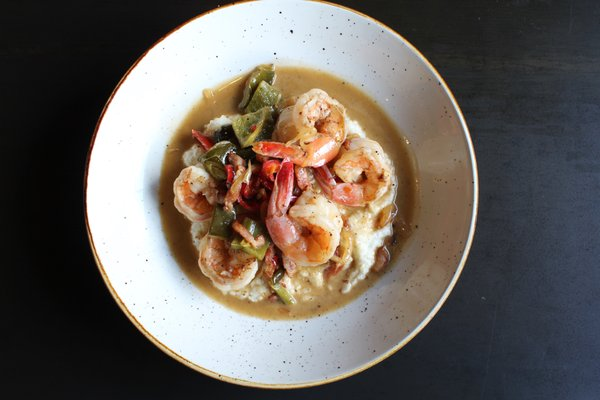curry: (12, 0, 600, 394)
